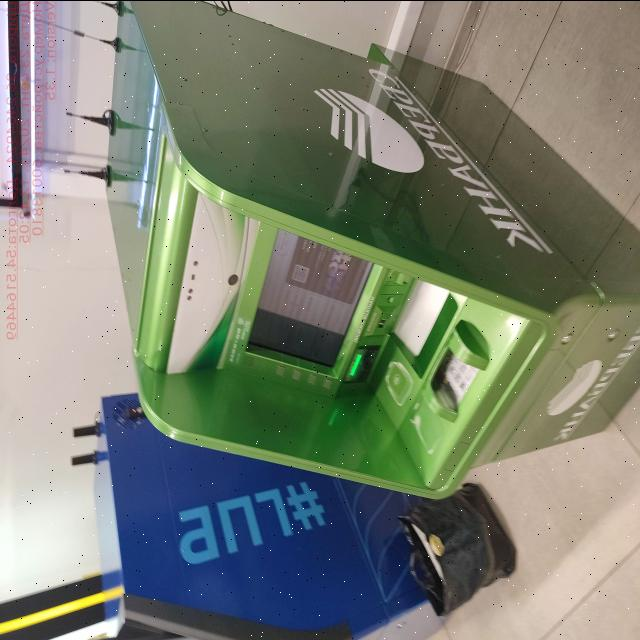bank: (103, 0, 640, 487)
